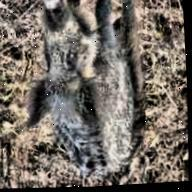boar: (11, 0, 178, 187)
